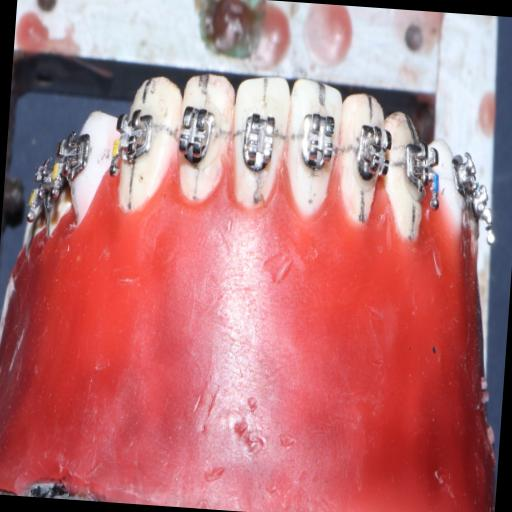incorrect_brace: (236, 110, 282, 179)
